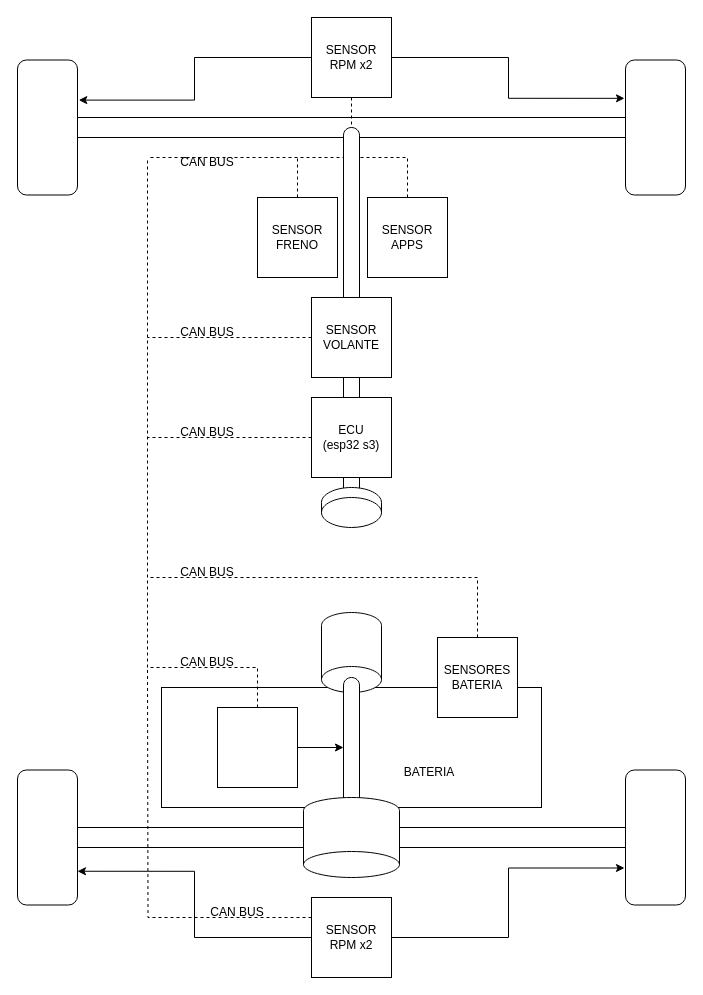
Some shapes in this 703 by 995 pixel diagram are drawn without their labels. Here are the shapes that lost their labels. From the top down, the box of each, then its label:
(320, 612, 382, 692): MOTOR
(216, 706, 298, 788): SENSOR RPM
(302, 796, 400, 878): DIFERENCIAL
